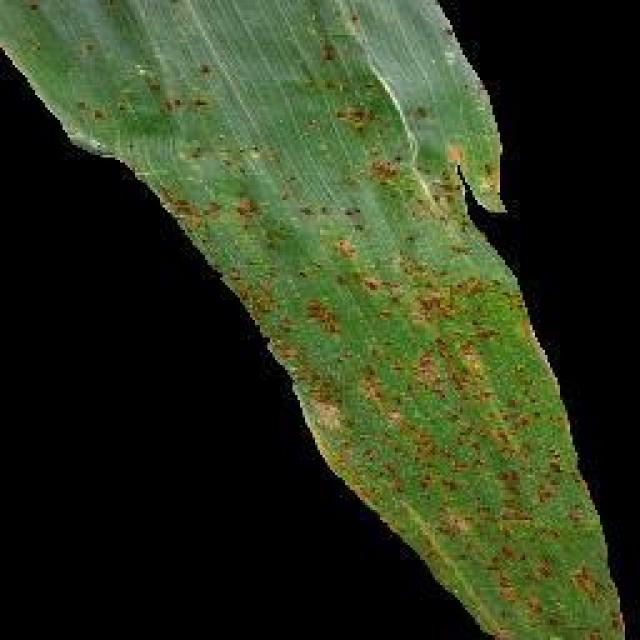Corn Common Rust: (255, 75, 640, 640)
